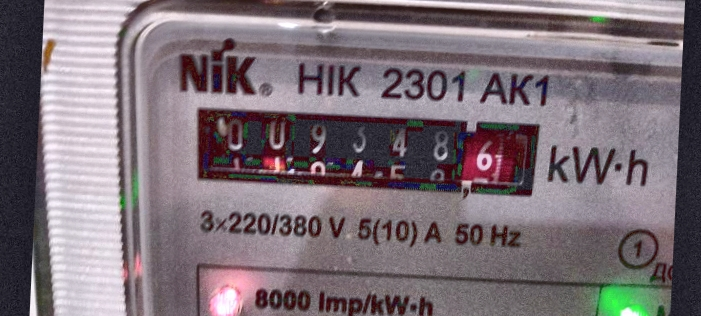0: (265, 116, 288, 153), (224, 116, 246, 152)
3: (347, 121, 370, 154)
4: (387, 122, 409, 160)
6: (473, 137, 497, 172)
8: (430, 126, 451, 161)
9: (308, 119, 327, 154)
screen: (170, 91, 559, 211)
